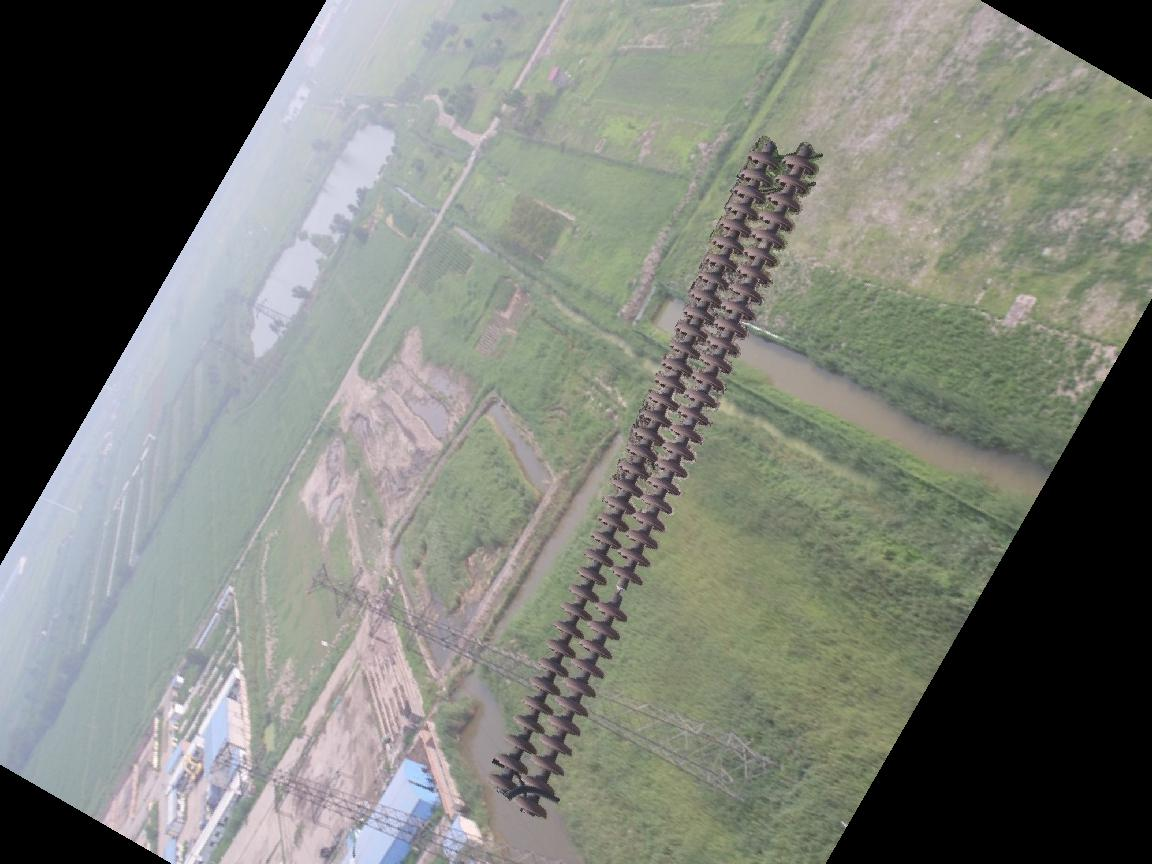insulator: (487, 136, 822, 816)
insulator_stringdrop: (594, 561, 644, 626)
